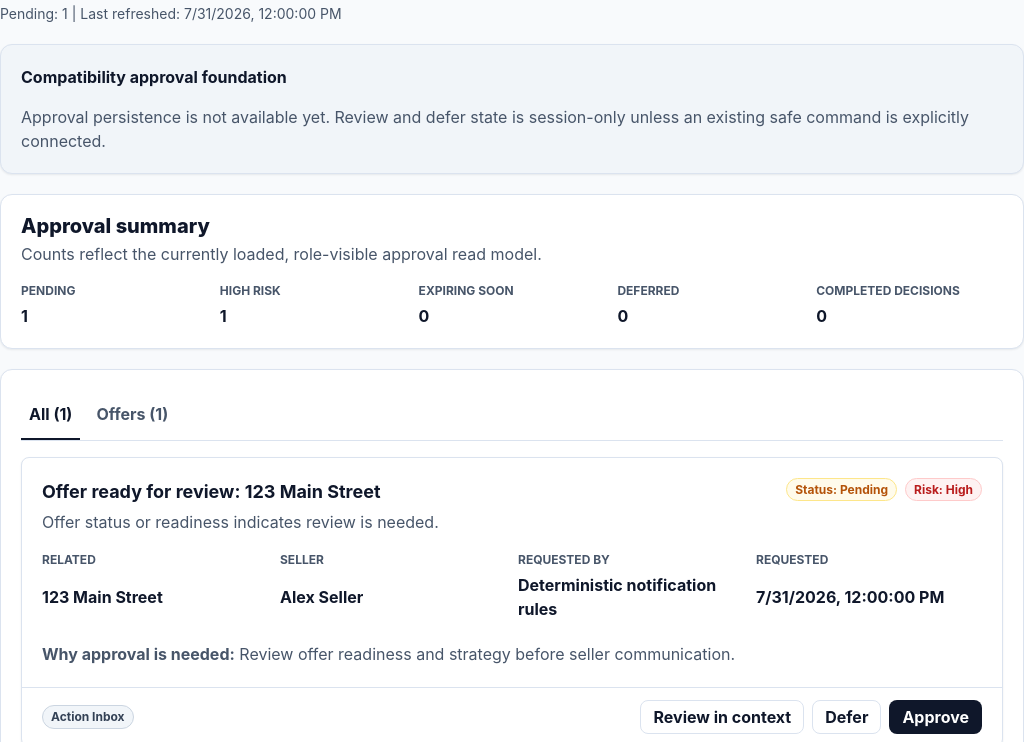
Scenario: ApprovalInboxWorkspace › confirms a real injected command and prevents duplicate submission
(page scrolled)
What coordinates should you click on to do the following:
click the button "Approve"
I would click on:
 (936, 717)
Its box is [889, 700, 982, 734].
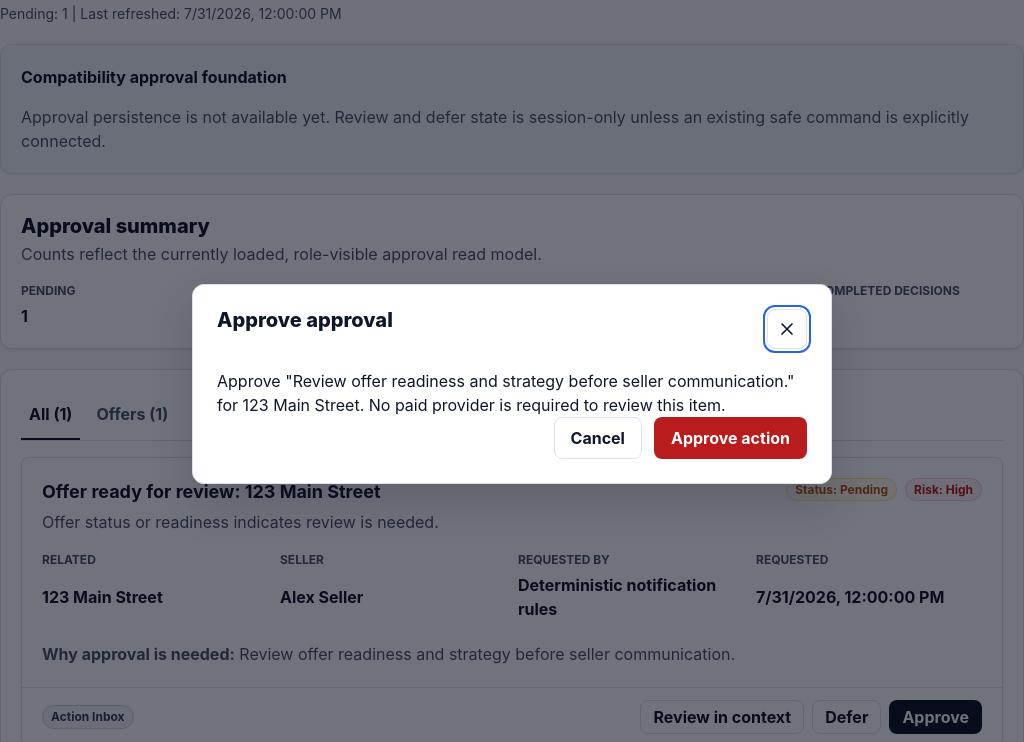
Check: the dialog "Approve approval" shows "123 Main Street", box [217, 371, 794, 415]
What coordinates should you click on to do the following:
click the button "Approve action"
I would click on:
 (730, 438)
Its box is [654, 417, 807, 459].
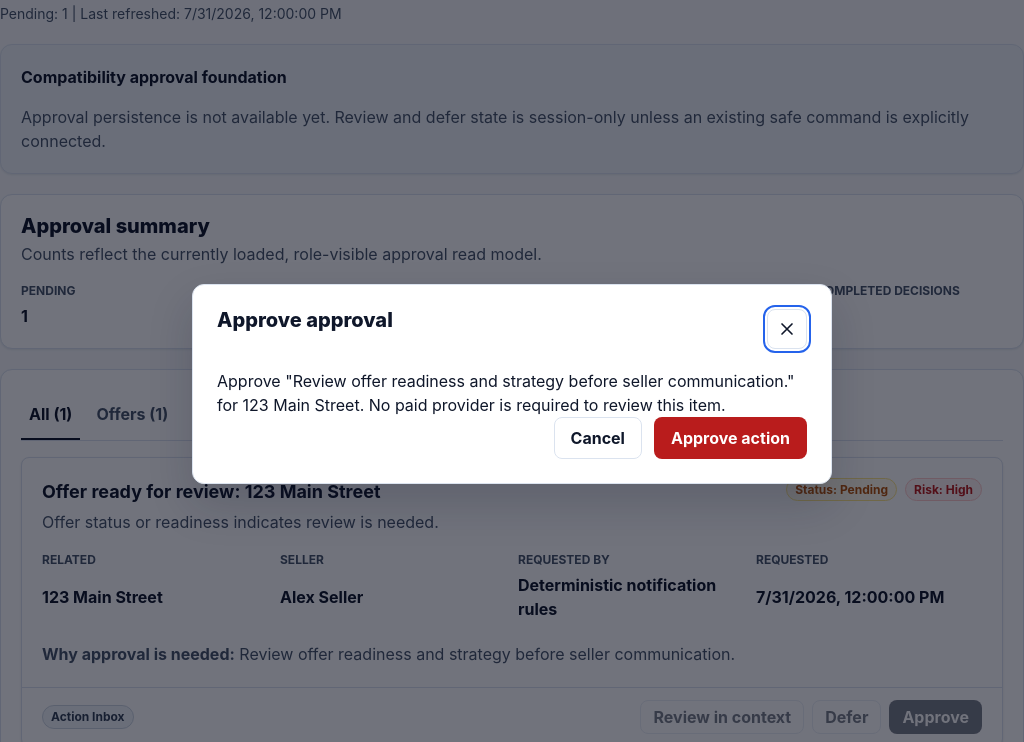
What coordinates should you click on to do the following:
click the button "Approve action"
I would click on:
 (730, 438)
Its box is [654, 417, 807, 459].
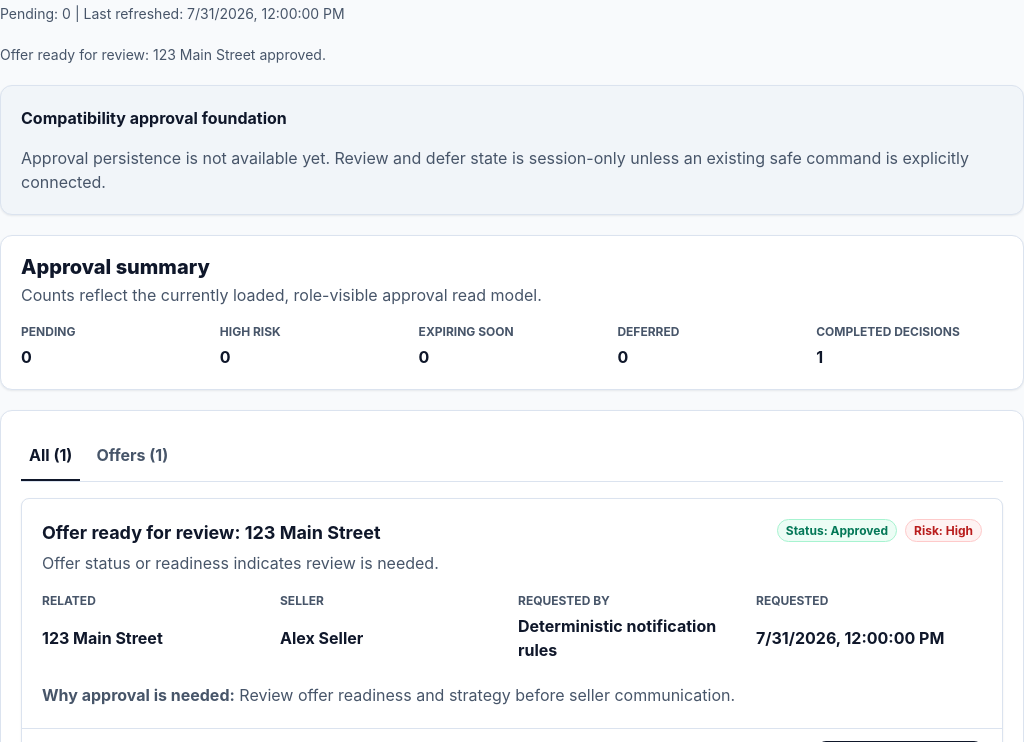
Check: the text "Offer ready for review: 123 Main Street approved." is shown, box [0, 46, 326, 62]
Check: the text "Status: Approved" is shown, box [777, 518, 897, 542]
